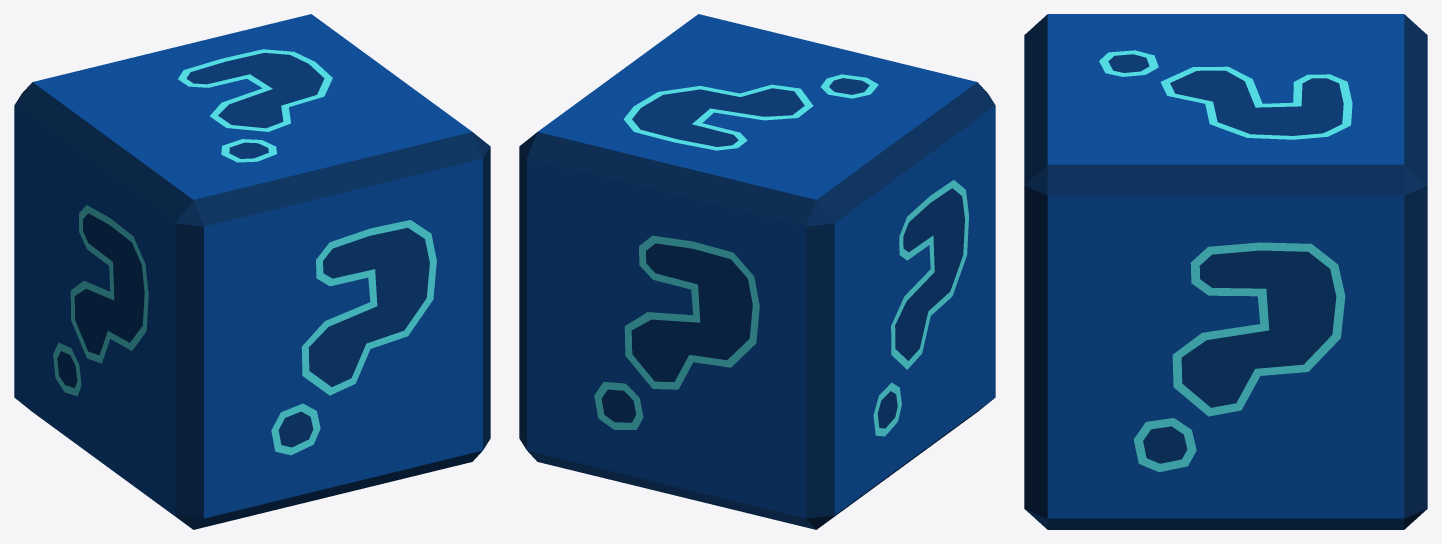
File: misc_trinket.glb
3 renders of one model, left to right at view 1: azimuth 30°, elevation 25°; view 2: azimuth 150°, elevation 25°; view 3: azimuth 270°, elevation 25°, orthographic. The views are drawn at different scales.
Parts seen in each view (by area): view 1: MiscTrinket; view 2: MiscTrinket; view 3: MiscTrinket.
Boxes of the visible parts, left/top/right/bottom form: MiscTrinket: left=14, top=14, right=490, bottom=529; MiscTrinket: left=519, top=14, right=995, bottom=529; MiscTrinket: left=1024, top=14, right=1427, bottom=529.
Size of the model in its own units: 1 by 1 by 1.
Materials: 1 (1 with a texture image).
